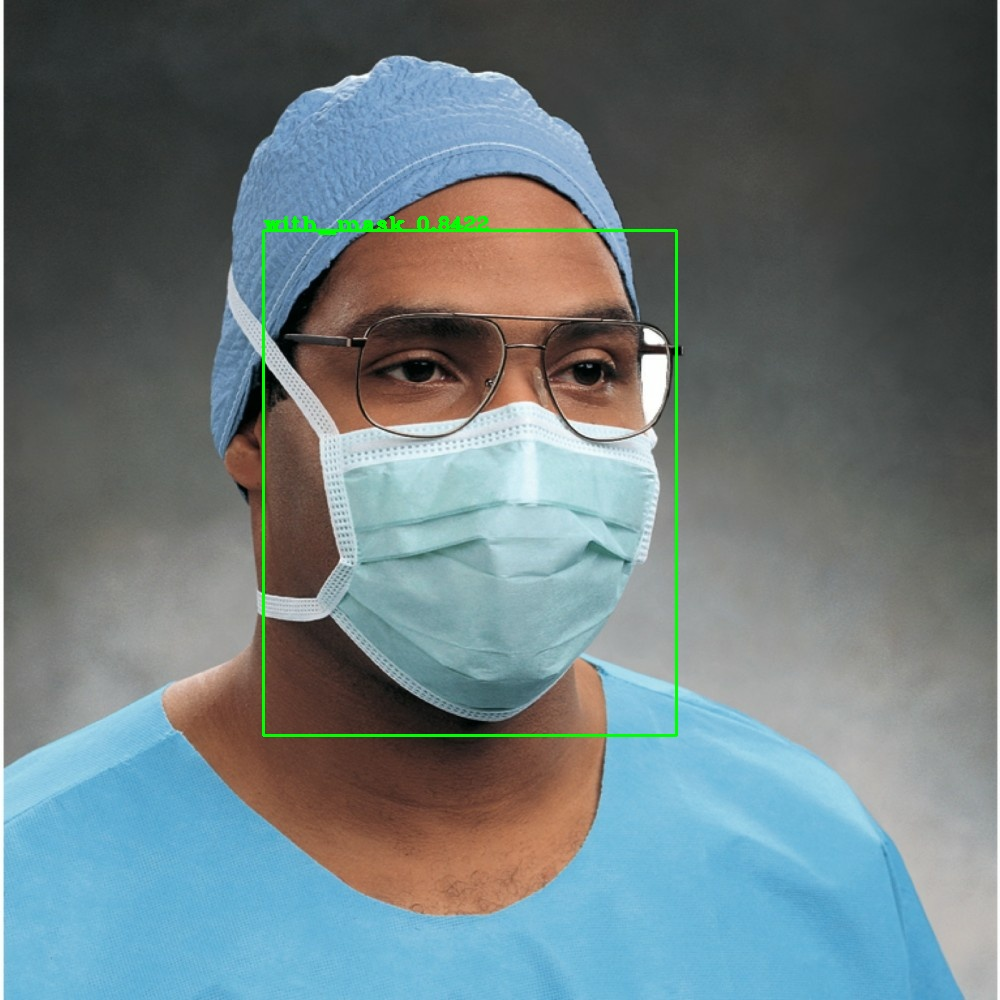with_mask: (208, 177, 686, 769)
